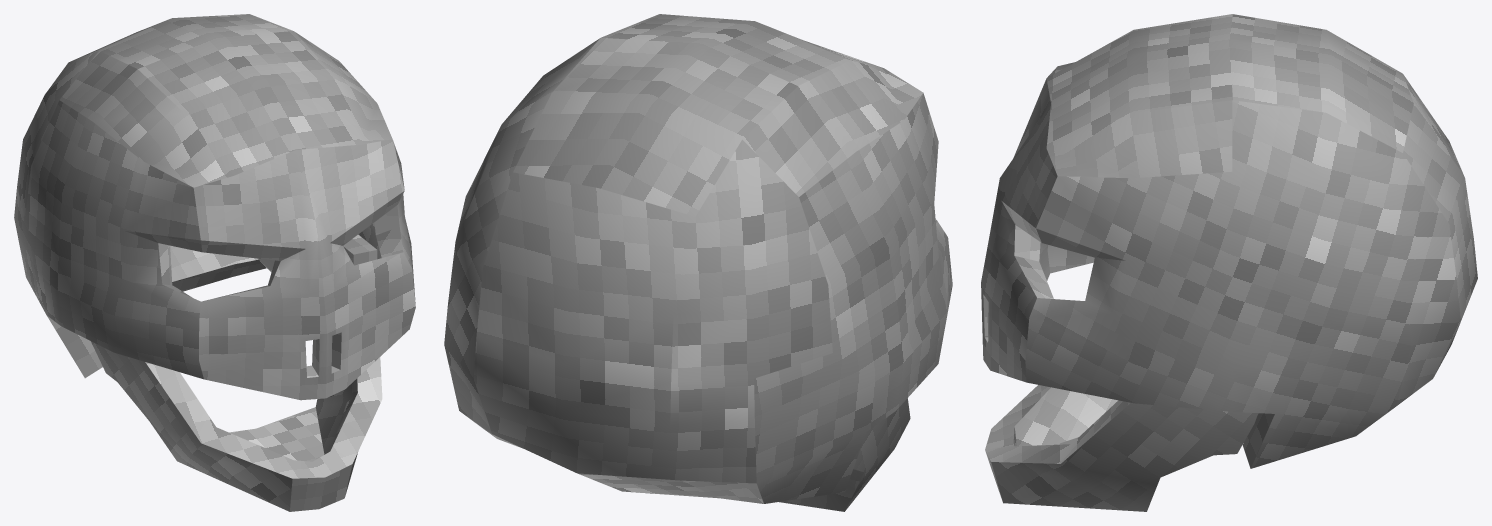
The model's file is skull.fbx.
3 renders of one model, left to right at view 1: azimuth 30°, elevation 25°; view 2: azimuth 150°, elevation 25°; view 3: azimuth 270°, elevation 25°, orthographic. The views are drawn at different scales.
Visible parts, largest first — view 1: skull; view 2: skull; view 3: skull.
Part boxes in pixels (bbox=[...]): skull: bbox=[14, 14, 415, 511]; skull: bbox=[444, 14, 952, 511]; skull: bbox=[981, 14, 1477, 511].
Size of the model in its own units: 192 by 227 by 228.
